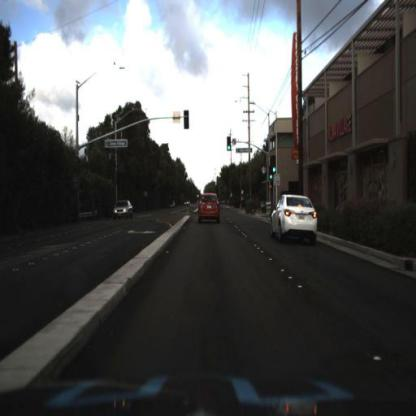car: (270, 194, 320, 247), (191, 189, 228, 231), (111, 197, 136, 223)
trafficLight-Green: (224, 137, 234, 156), (270, 174, 274, 186), (273, 165, 277, 176)
